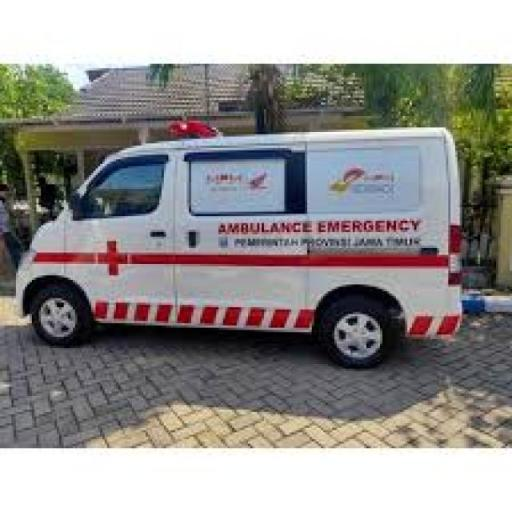Police car: (11, 136, 455, 362)
